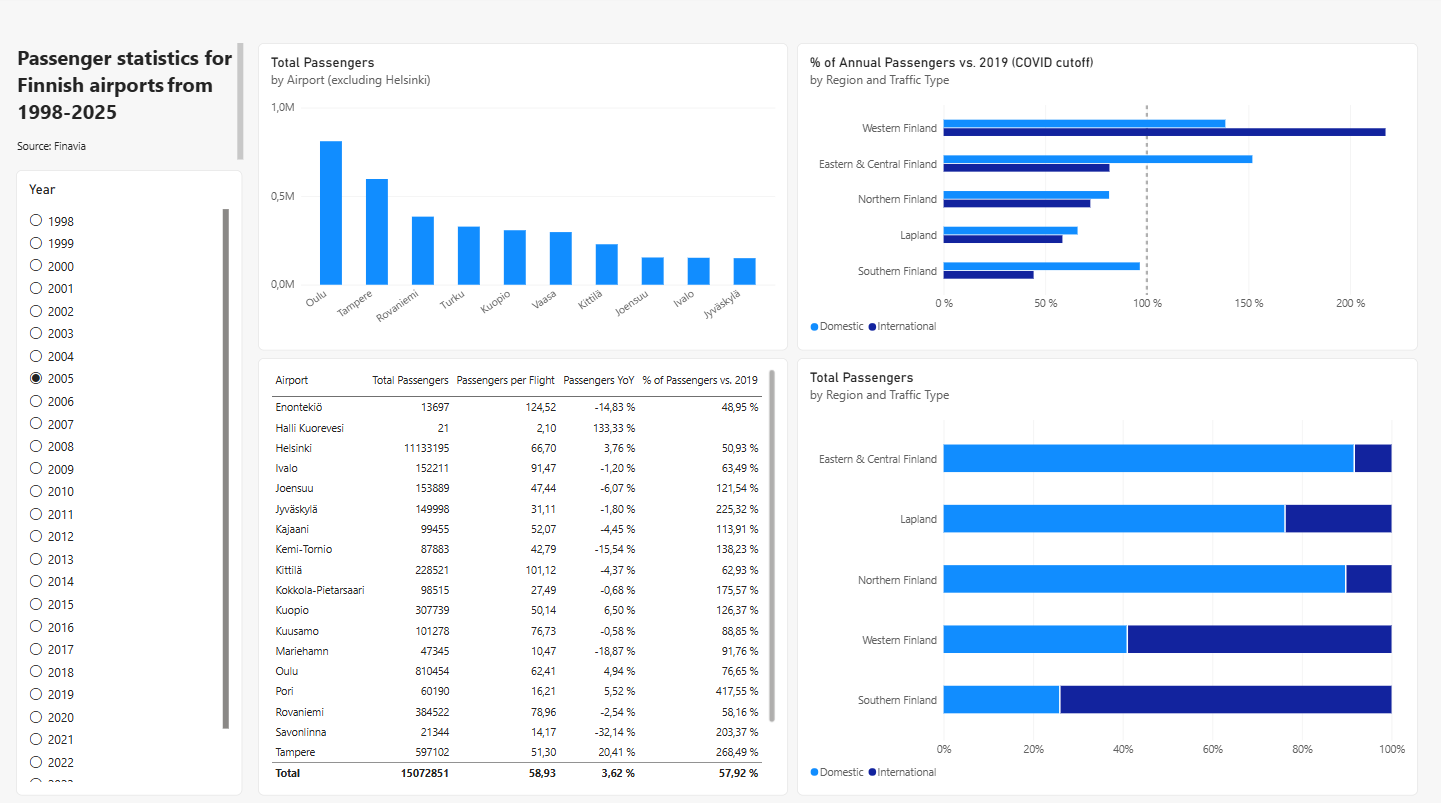

The page's visual inventory and layout, read from the dashboard file:
{"tool":"powerbi","page":{"name":"Airport Data","canvas":[1920,1080],"ordinal":1},"visuals":[{"type":"clusteredBarChart","fields":{"Category":["dim_Airport.Region Hierarchy.Region","dim_Airport.Region Hierarchy.Airport"],"Series":["dim_TrafficType.TrafficType"],"Y":["_Measures1.Recovery vs. 2019"]},"box":[1060.7,62.7,825.8,408.5],"z":0},{"type":"listSlicer","fields":{"Values":["dim_Date.Year"]},"box":[21.9,232,300.5,831.6],"z":1},{"type":"hundredPercentStackedBarChart","fields":{"Category":["dim_Airport.Region Hierarchy.Region","dim_Airport.Region Hierarchy.Airport"],"Series":["dim_TrafficType.TrafficType"],"Y":["_Measures1.Total Passengers"]},"box":[1060.7,481.5,825.8,582.1],"z":2},{"type":"tableEx","fields":{"Values":["dim_Airport.Airport","_Measures1.Total Passengers","_Measures1.Passengers per Flight","_Measures1.Passengers YoY","_Measures1.Recovery vs. 2019"]},"box":[342.9,481.5,704.7,582.1],"z":3},{"type":"columnChart","fields":{"Category":["dim_Airport.Airport"],"Y":["_Measures1.Total Passengers"]},"box":[342.9,62.7,704.7,408.5],"z":4},{"type":"textbox","box":[22,63,301,169],"z":5}]}

Visuals, with their boxes in screenshot pixels (x1, y1, x2, y2), scaled from the page's 1920x1080 canvas onto the 1441x803 screenshot:
clusteredBarChart - dim_Airport.Region Hierarchy.Region x dim_Airport.Region Hierarchy.Airport: Rect(796, 47, 1416, 350)
listSlicer - dim_Date.Year: Rect(16, 172, 242, 791)
hundredPercentStackedBarChart - dim_Airport.Region Hierarchy.Region x dim_Airport.Region Hierarchy.Airport: Rect(796, 358, 1416, 791)
tableEx - dim_Airport.Airport x _Measures1.Total Passengers: Rect(257, 358, 786, 791)
columnChart - dim_Airport.Airport x _Measures1.Total Passengers: Rect(257, 47, 786, 350)
textbox: Rect(17, 47, 242, 172)
